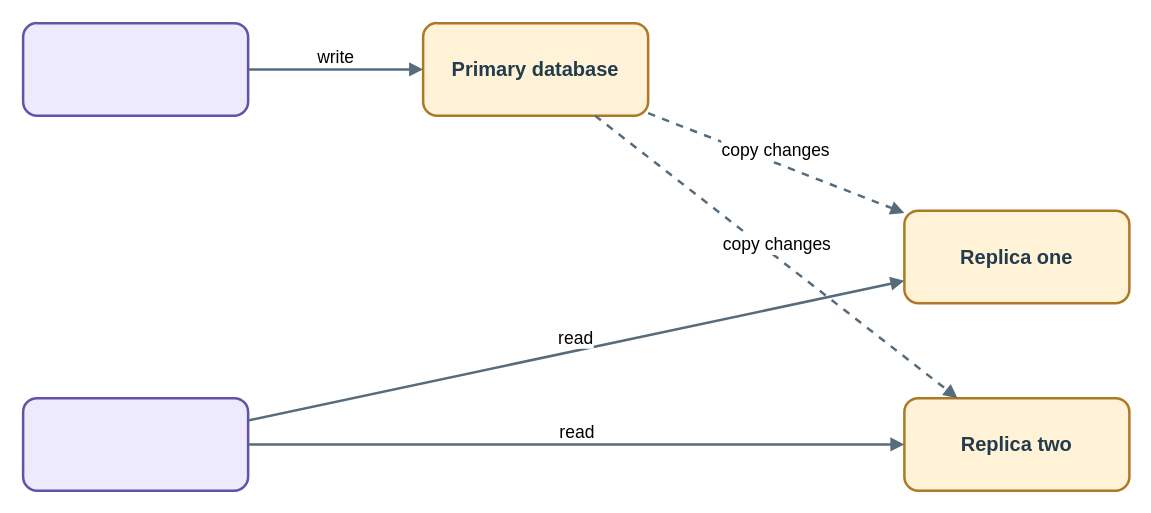
Image size: 1151x513. Some labels were removed from this diagram. The box of each missing label's shape, as (x1, y1, x2, y2) in pixels:
Reading clients: (21, 396, 249, 491)
Writing client: (21, 21, 249, 116)
